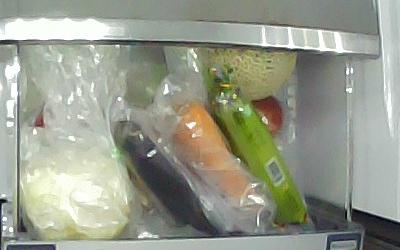cabbage_vinyl: (19, 149, 131, 239)
carrot_vinyl: (165, 99, 252, 200)
eggplant_vinyl: (109, 118, 221, 237)
melon: (201, 47, 297, 100)
zucchini: (211, 94, 305, 226)
